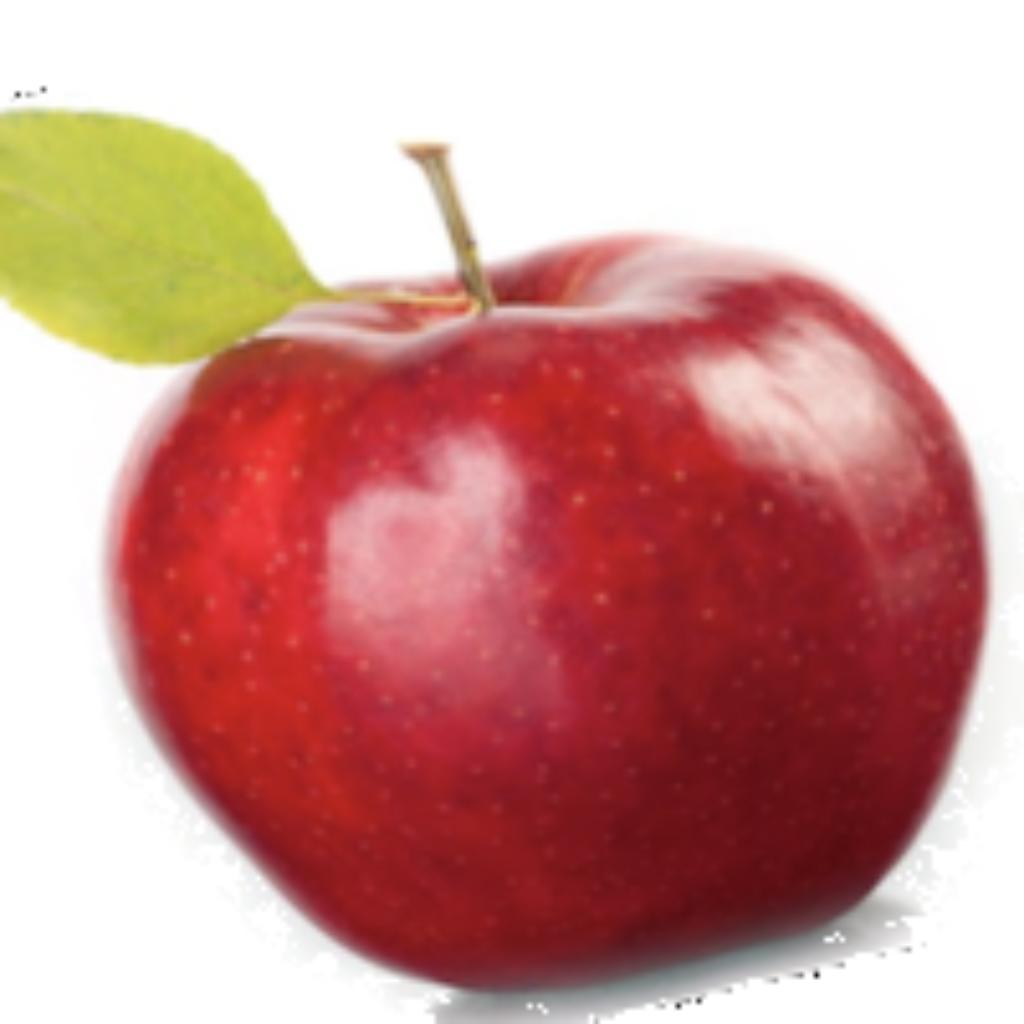apple: (0, 84, 1019, 1019)
